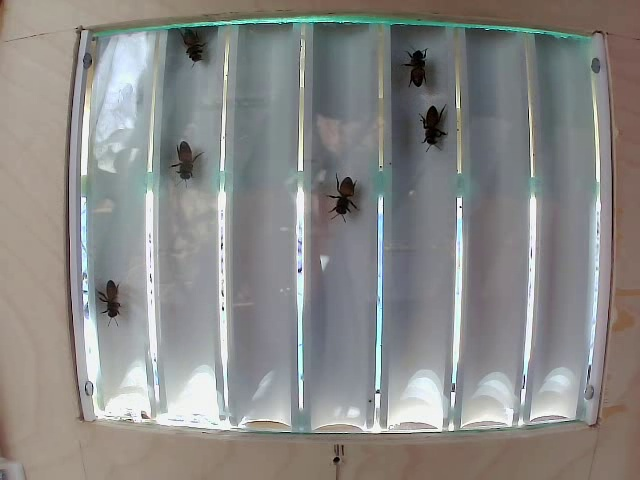bee: (319, 168, 372, 228), (406, 105, 455, 161), (171, 139, 206, 193), (90, 270, 124, 321), (400, 47, 433, 90), (175, 38, 208, 73)
